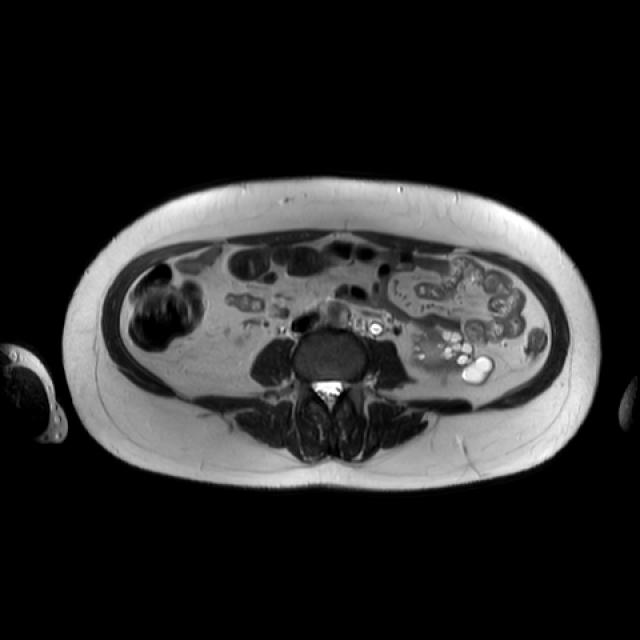sol: (411, 327, 494, 384)
